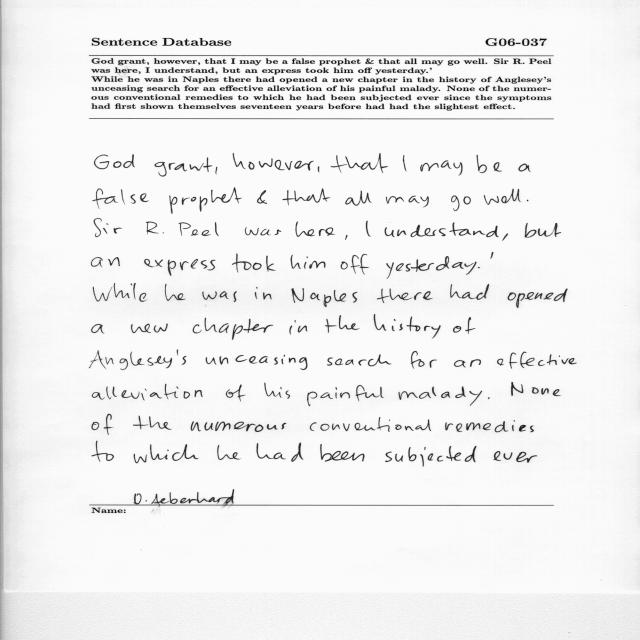word: (387, 256, 477, 279), (169, 187, 242, 214), (89, 350, 186, 370), (385, 446, 477, 467), (310, 417, 431, 432), (92, 384, 203, 400), (193, 318, 273, 340), (385, 223, 499, 238), (399, 386, 482, 406), (307, 385, 384, 406), (374, 315, 441, 339), (206, 355, 307, 370), (233, 153, 314, 171), (497, 352, 577, 369), (292, 288, 358, 307), (134, 444, 199, 463), (144, 259, 216, 276), (508, 288, 568, 308), (331, 153, 388, 173), (93, 189, 149, 209), (155, 158, 213, 177), (445, 421, 534, 433), (191, 421, 287, 432), (93, 283, 146, 302), (257, 442, 304, 462), (282, 188, 331, 206), (232, 254, 275, 273), (320, 444, 365, 462), (377, 289, 433, 303), (327, 355, 391, 367), (511, 382, 561, 396), (420, 161, 463, 176), (295, 221, 335, 237), (325, 315, 360, 333), (450, 284, 489, 300), (94, 154, 135, 169), (484, 189, 521, 205), (178, 222, 219, 236), (341, 254, 369, 274), (133, 416, 172, 430), (525, 223, 561, 238), (94, 219, 122, 238), (494, 451, 537, 463), (291, 255, 326, 269), (386, 196, 429, 207), (411, 351, 437, 369), (92, 441, 114, 462), (477, 155, 502, 173), (92, 414, 113, 435), (345, 190, 372, 206), (264, 383, 290, 399), (202, 291, 237, 302), (453, 317, 475, 334), (131, 324, 168, 334), (165, 284, 186, 301), (217, 445, 240, 460), (245, 227, 281, 236), (226, 385, 245, 402), (91, 257, 120, 268), (451, 196, 471, 211), (290, 320, 308, 335), (146, 222, 164, 235), (255, 287, 272, 300), (454, 360, 481, 368), (257, 190, 267, 204), (92, 324, 104, 333), (518, 164, 531, 172), (366, 221, 371, 237), (403, 155, 407, 171), (502, 233, 508, 241), (491, 252, 494, 259), (345, 235, 348, 240), (216, 167, 218, 174), (318, 167, 319, 173), (488, 397, 490, 399), (527, 200, 529, 201), (478, 267, 480, 268)
